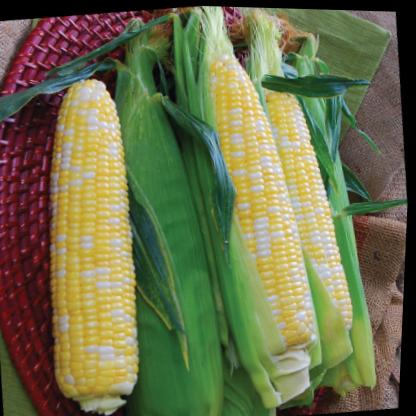---: (182, 37, 331, 389), (19, 70, 159, 416), (241, 62, 369, 345)
